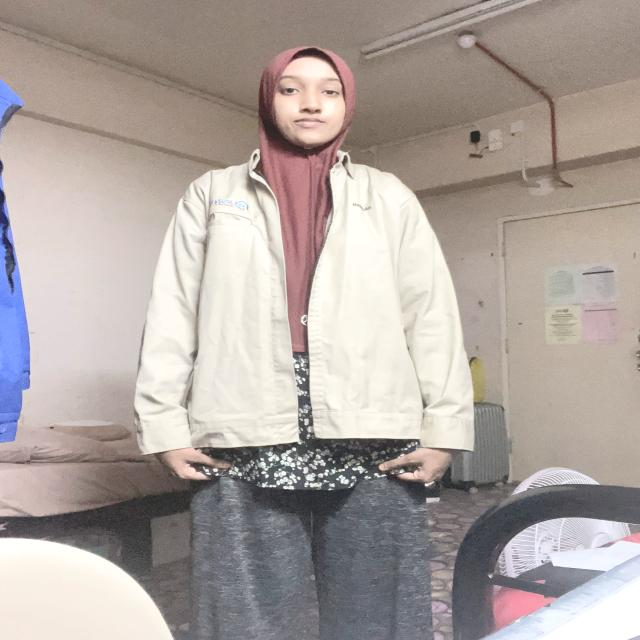person_with_labcoat: (134, 47, 474, 640)
